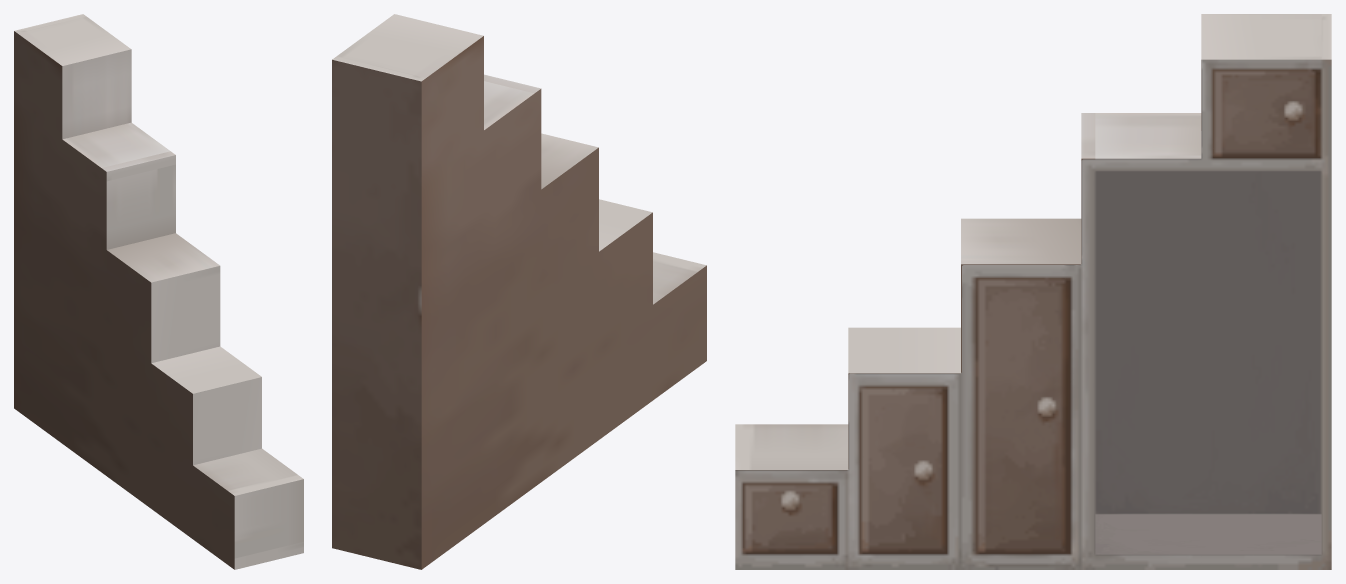
File: 楼梯柜.fbx
The picture shows the model from 3 angles, left to right: view 1: azimuth 30°, elevation 25°; view 2: azimuth 150°, elevation 25°; view 3: azimuth 270°, elevation 25°; orthographic projection. The views are drawn at different scales.
Visible parts, largest first — view 1: 楼梯柜箱; view 2: 楼梯柜箱; view 3: 楼梯柜箱.
Part boxes in pixels (left/top/right/bottom): 楼梯柜箱: left=14, top=14, right=303, bottom=569; 楼梯柜箱: left=332, top=14, right=706, bottom=569; 楼梯柜箱: left=735, top=14, right=1331, bottom=569.
Bounding box in the file's own units: 19.17 × 100 × 106.
